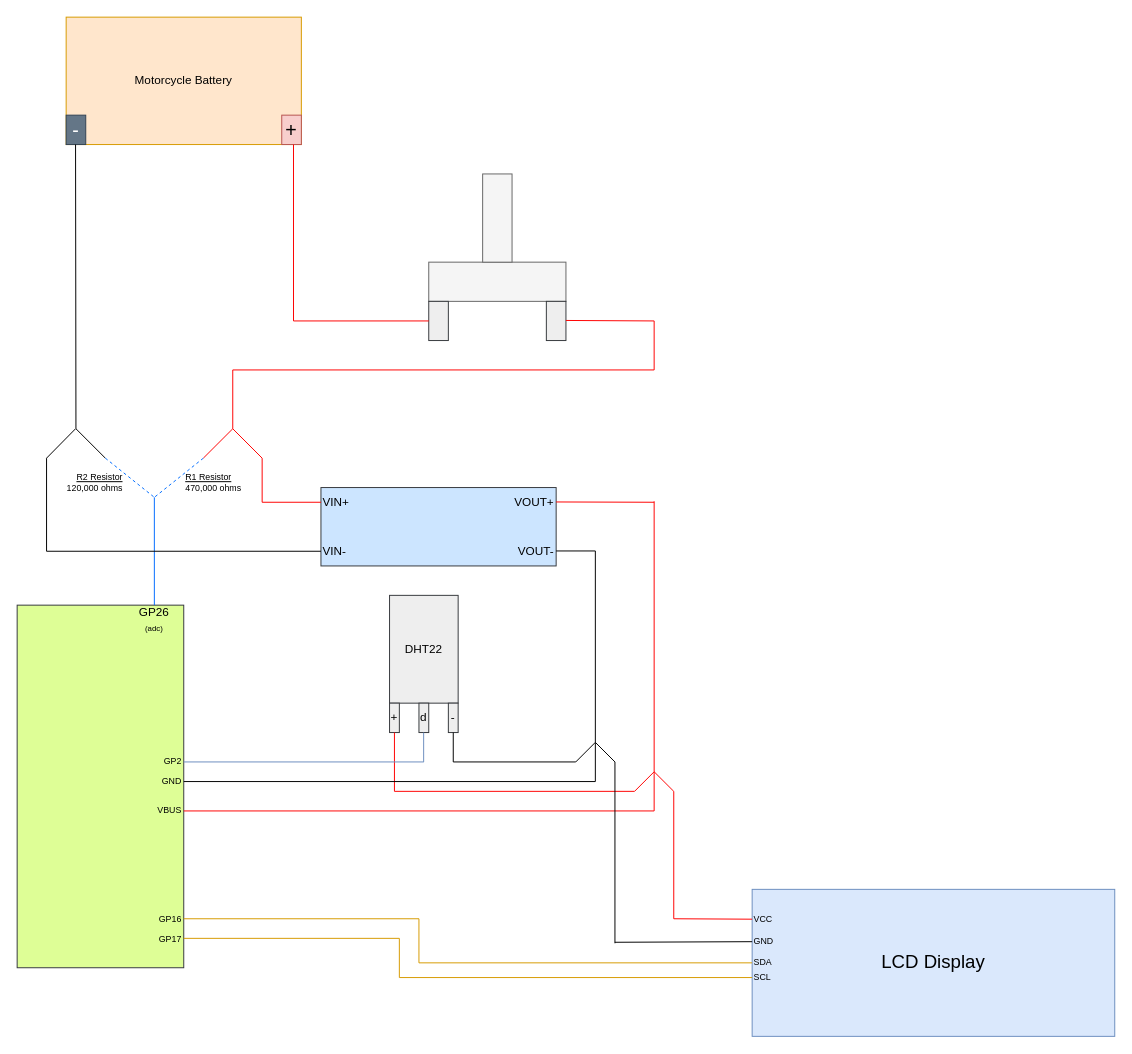
Some shapes in this 1132 by 1054 pixel diagram are drawn without their labels. The box of each missing label's shape, as (x1, y1, x2, y2) in pixels:
LM2596 set to 5V: (320, 487, 556, 566)
Raspberry Pi Pico: (16, 604, 184, 968)
Switch: (428, 261, 566, 301)
